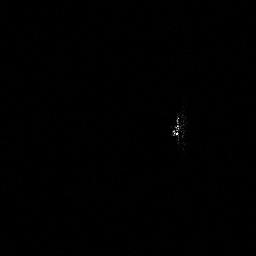ship: (170, 111, 190, 150)
